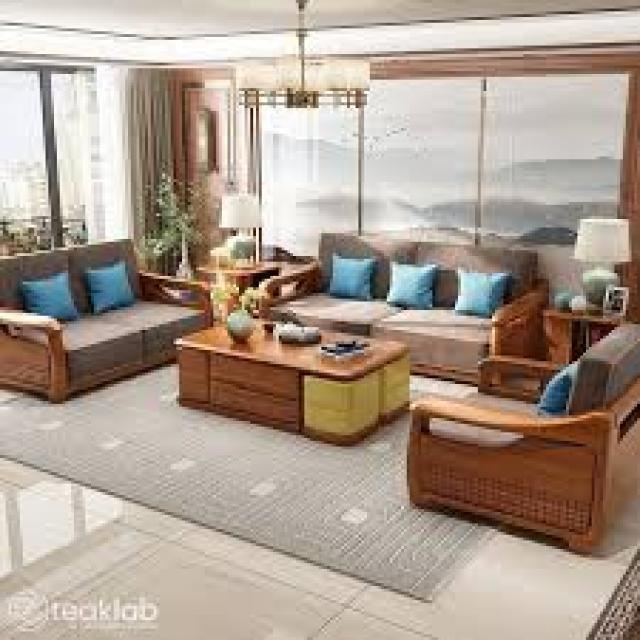sofa: (402, 317, 640, 553), (256, 228, 549, 384), (0, 236, 213, 401)
